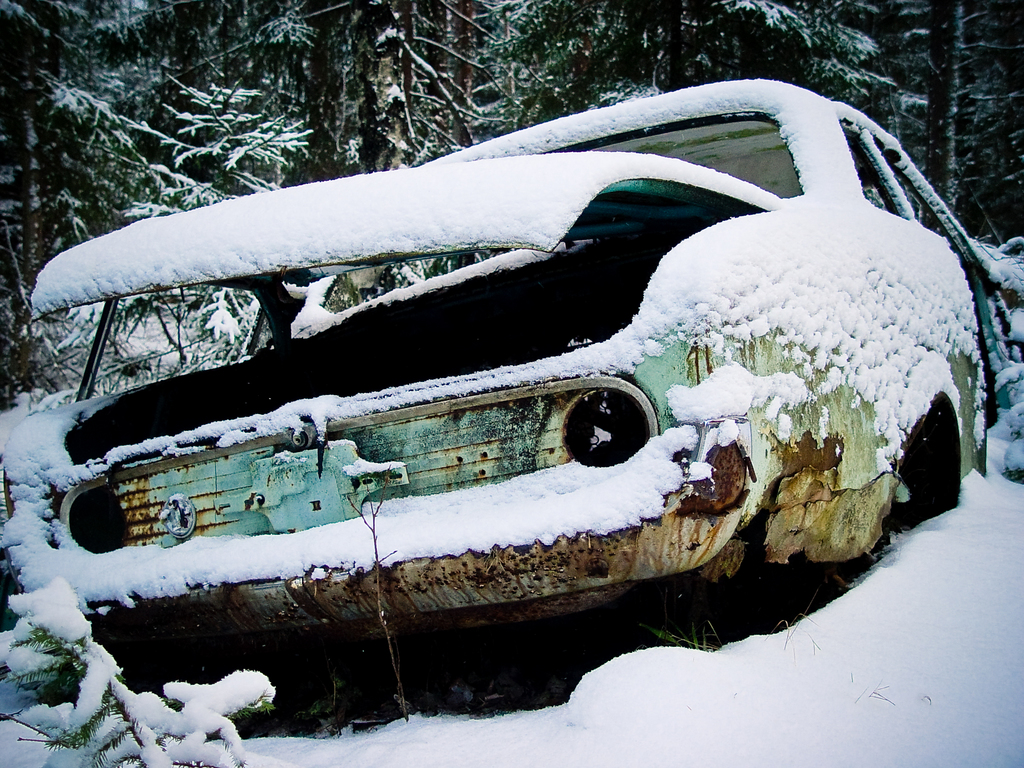Car: (4, 72, 1016, 628)
